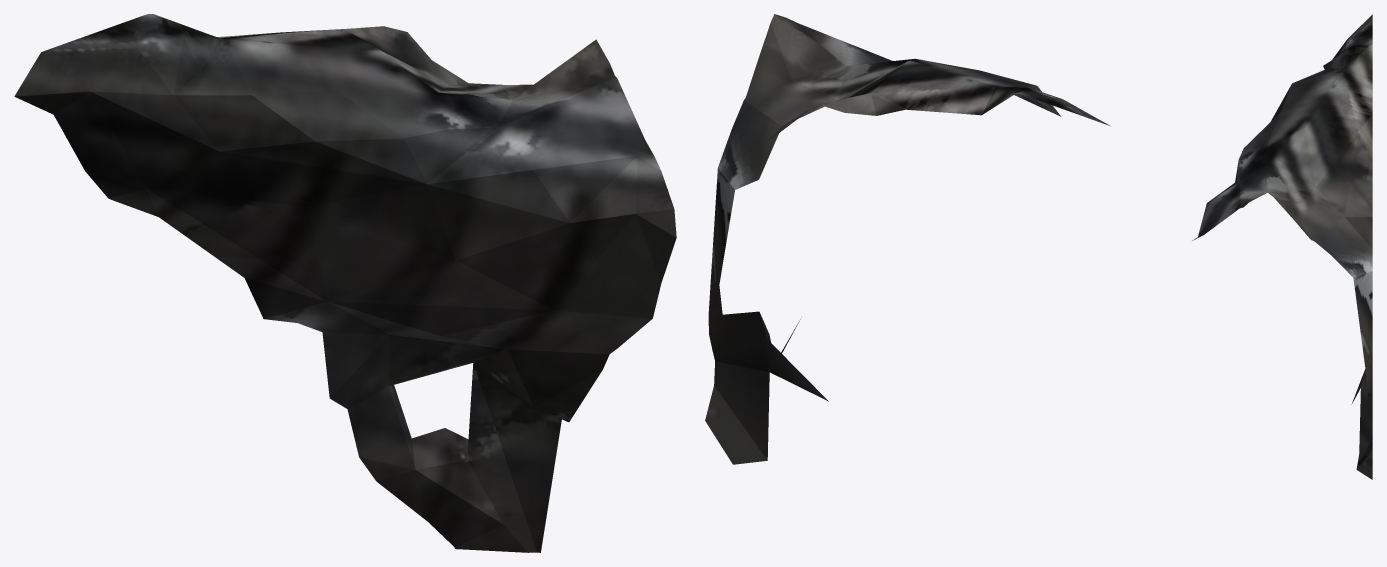
3 views of the same model, side by side, from view 1: azimuth 30°, elevation 25°; view 2: azimuth 150°, elevation 25°; view 3: azimuth 270°, elevation 25° (orthographic). The views are drawn at different scales.
Bounding box in the file's own units: 0.5666 × 0.659 × 0.3159.
Materials: 1 (1 with a texture image).
